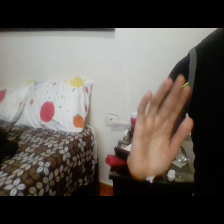left: (121, 71, 198, 179)
